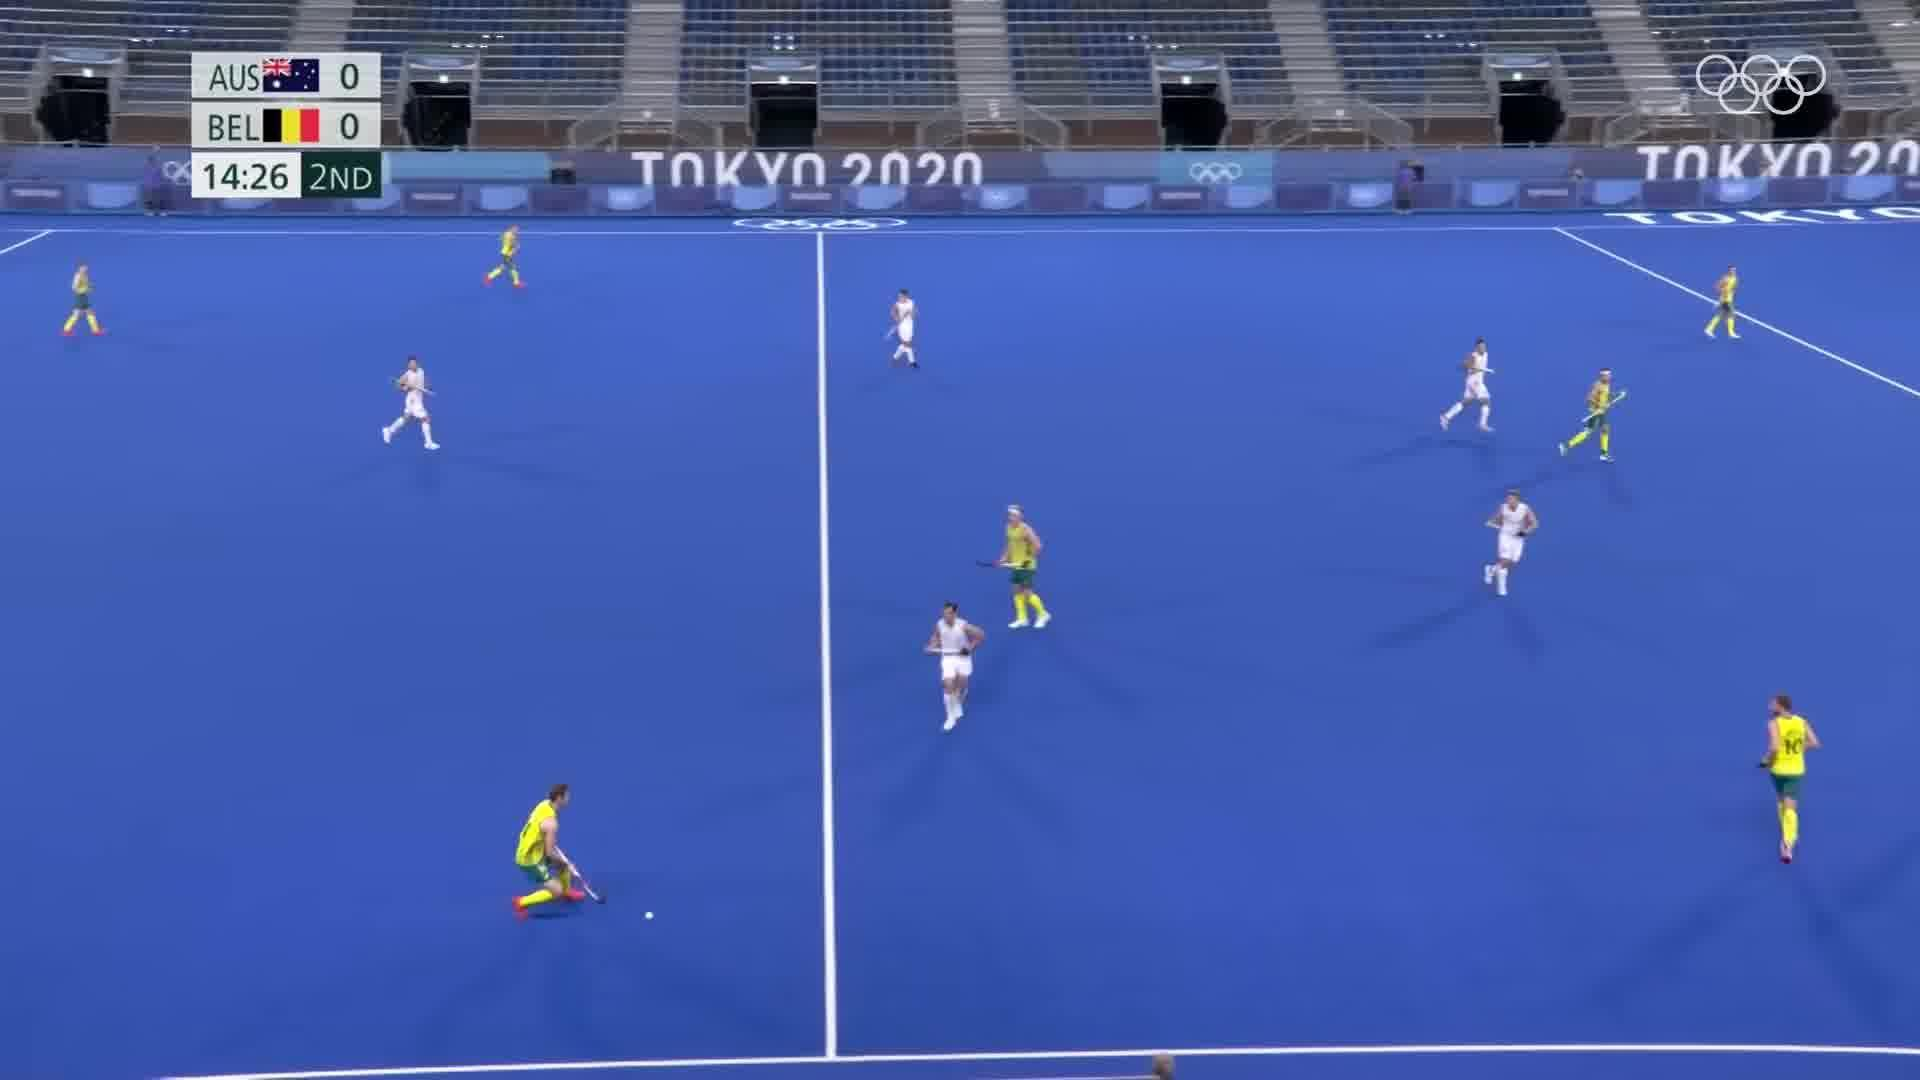ball: (641, 902, 659, 928)
